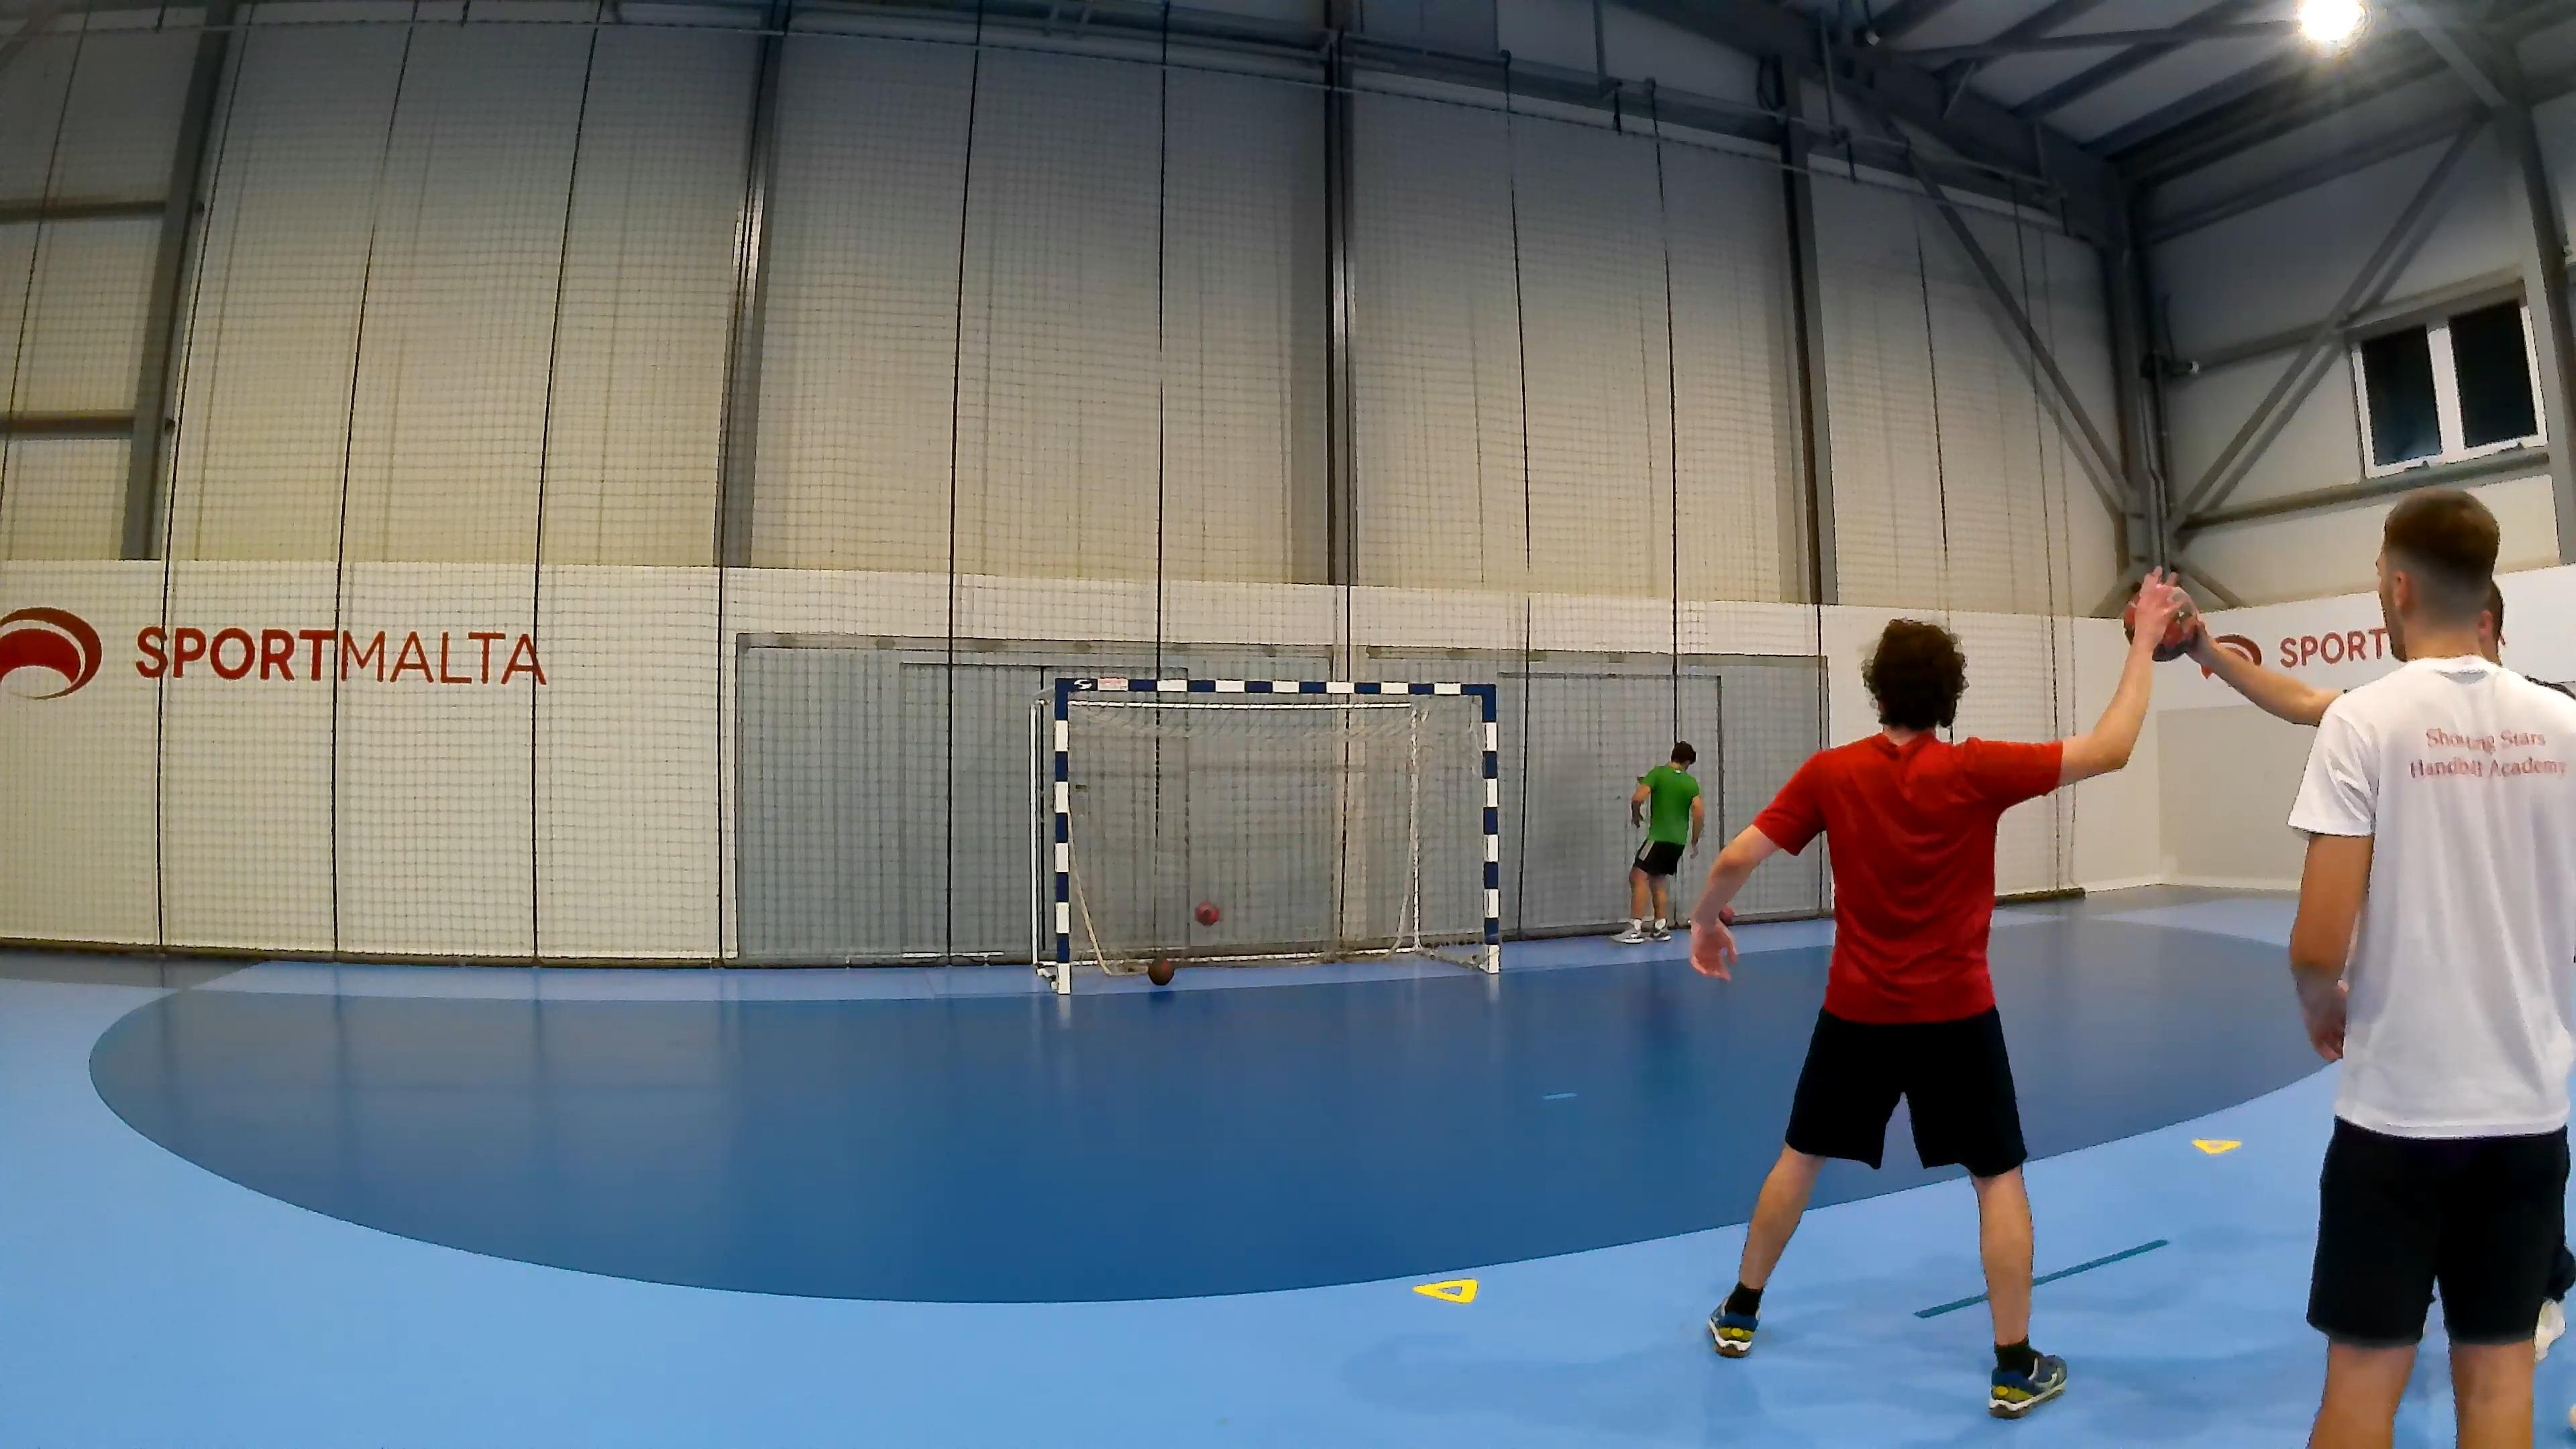handball: (2125, 577, 2199, 663), (1194, 886, 1228, 929), (1146, 955, 1175, 985)
